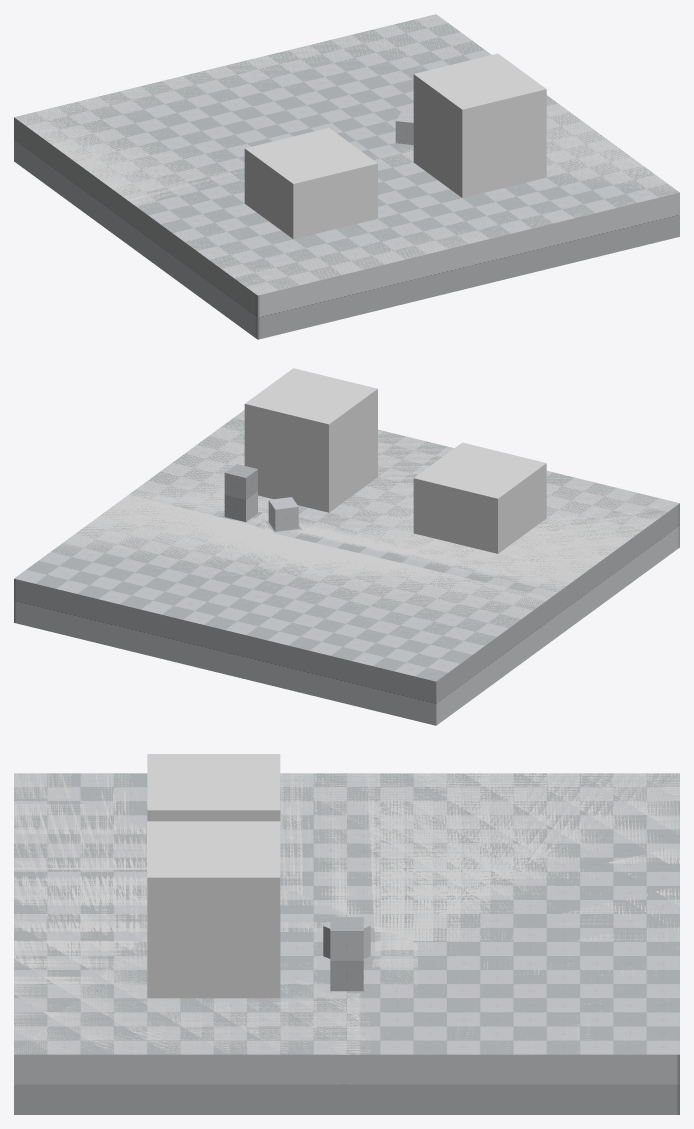
Rendered from test_rooms.glb.
3 views of the same model, one above another, from view 1: azimuth 30°, elevation 25°; view 2: azimuth 150°, elevation 25°; view 3: azimuth 270°, elevation 25° (orthographic). The views are drawn at different scales.
Parts seen in each view (by area): view 1: floor, walk_area, interactable.002, interactable.001, cube small; view 2: floor, walk_area, interactable.002, interactable.001, cube tall, cube small; view 3: floor, walk_area, interactable.002, interactable.001, cube tall, cube small.
Boxes of the visible parts, x1,y1,x2,y2 form: floor: (14, 14, 679, 339); walk_area: (14, 14, 678, 294); interactable.002: (413, 53, 546, 197); interactable.001: (244, 128, 377, 239); cube small: (395, 111, 413, 144); floor: (14, 410, 679, 725); walk_area: (48, 412, 676, 675); interactable.002: (244, 368, 377, 512); interactable.001: (413, 442, 546, 553); cube tall: (224, 464, 257, 521); cube small: (268, 497, 298, 531); floor: (14, 773, 679, 1114); walk_area: (14, 773, 679, 1054); interactable.002: (147, 821, 280, 998); interactable.001: (147, 754, 280, 821); cube tall: (330, 917, 363, 991); cube small: (323, 916, 370, 958).
Size of the model in its own units: 20 by 6 by 20.
1 material, 1 textured.
